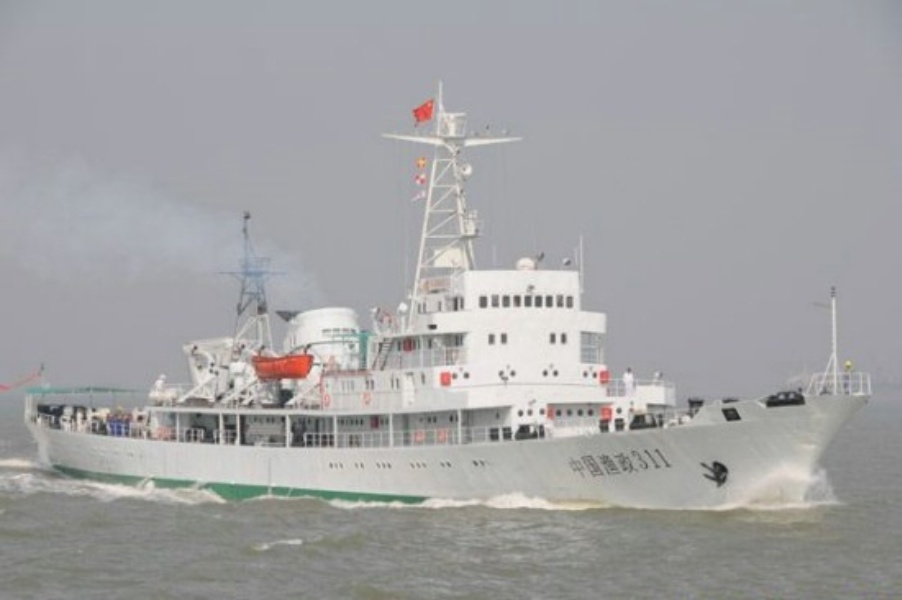text: (577, 448, 592, 481), (593, 448, 608, 481), (609, 448, 624, 481), (625, 448, 640, 481), (641, 448, 656, 481), (657, 448, 672, 481), (565, 448, 576, 481), (673, 448, 675, 481)
